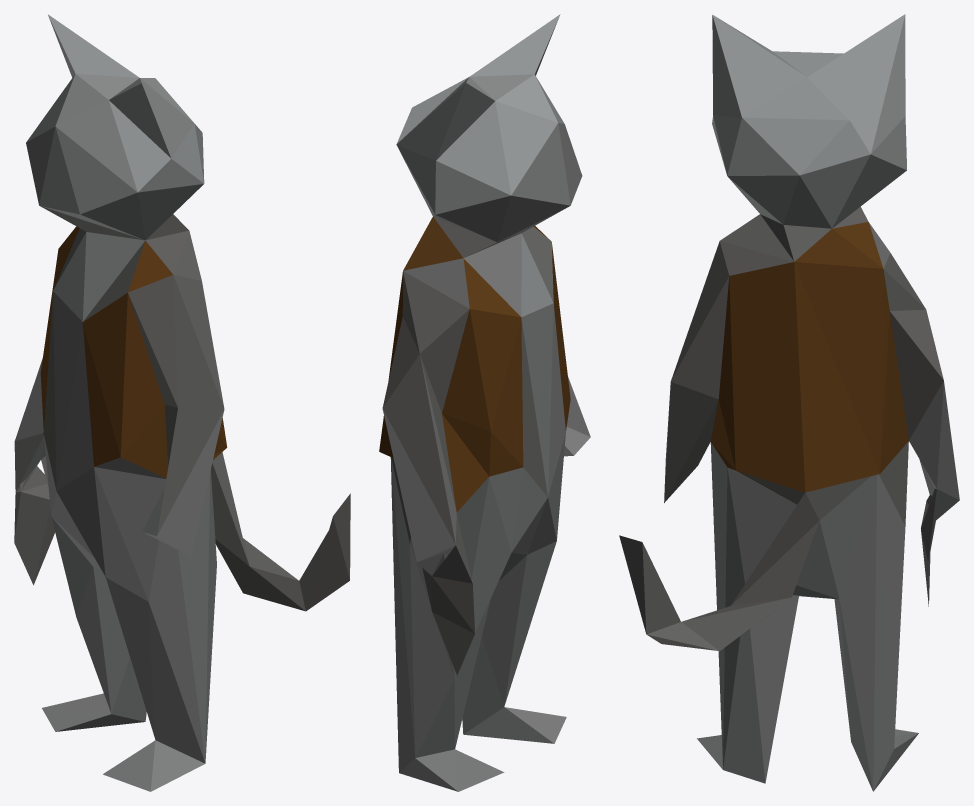
3 views of the same model, side by side, from view 1: azimuth 30°, elevation 25°; view 2: azimuth 150°, elevation 25°; view 3: azimuth 270°, elevation 25° (orthographic). The views are drawn at different scales.
Visible parts, largest first — view 1: lion-200; view 2: lion-200; view 3: lion-200.
Part boxes in pixels (x1,y1,x2,y2): lion-200: (14, 14, 350, 791); lion-200: (379, 14, 590, 791); lion-200: (619, 14, 959, 791).
Bounding box in the file's own units: 0.3422 × 1.01 × 0.4225.
